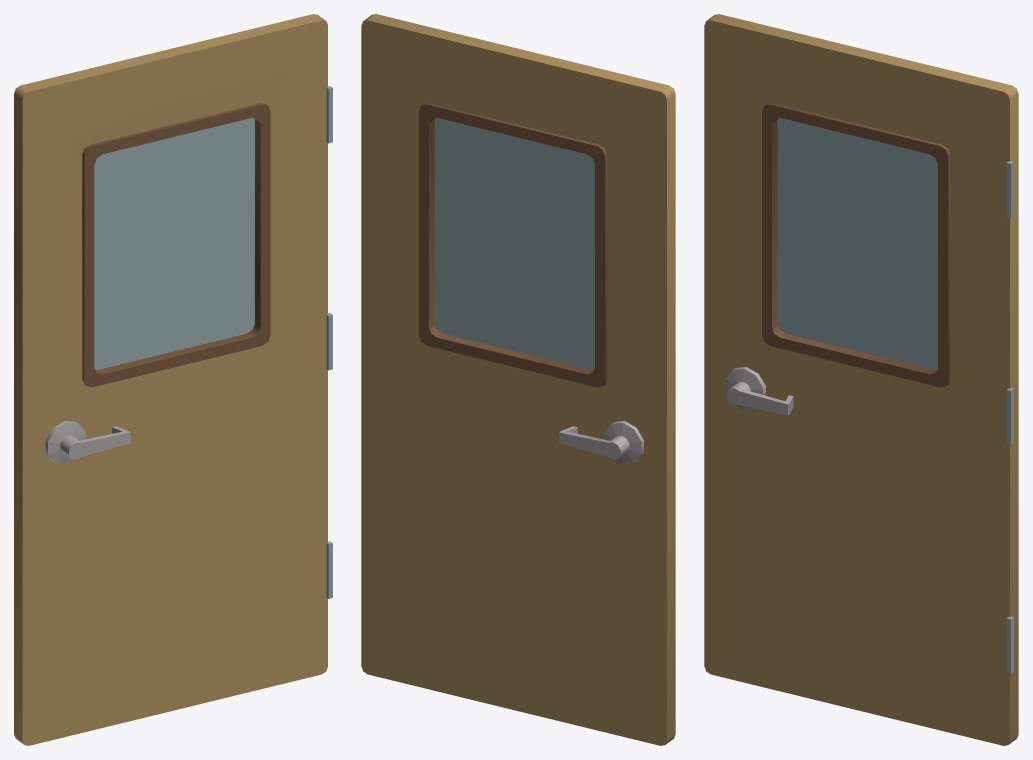
The model's file is Door.fbx.
3 views of the same model, side by side, from view 1: azimuth 30°, elevation 25°; view 2: azimuth 150°, elevation 25°; view 3: azimuth 330°, elevation 25° (orthographic).
Parts seen in each view (by area): view 1: door; view 2: door; view 3: door.
Part boxes in pixels (left/top/right/bottom): door: left=14, top=14, right=332, bottom=745; door: left=361, top=14, right=675, bottom=745; door: left=704, top=14, right=1018, bottom=745.
Bounding box in the file's own units: 88.52 × 16.42 × 179.
